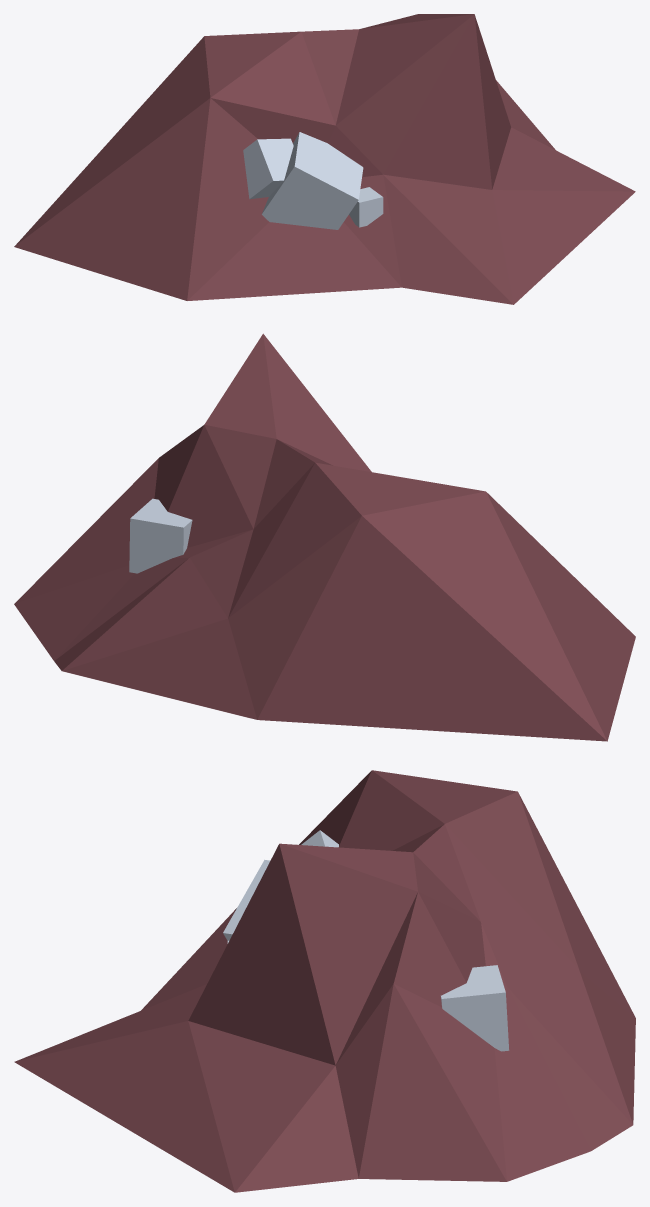
Rendered from cubeore_4.fbx.
3 renders of one model, top to bottom at view 1: azimuth 30°, elevation 25°; view 2: azimuth 150°, elevation 25°; view 3: azimuth 270°, elevation 25°, orthographic. The views are drawn at different scales.
Visible parts, largest first — view 1: Icosphere; view 2: Icosphere; view 3: Icosphere.
Part boxes in pixels (x1,y1,x2,y2): Icosphere: (14,14,635,304); Icosphere: (14,333,635,741); Icosphere: (14,770,635,1192).
Bounding box in the file's own units: 442 × 169 × 353.
